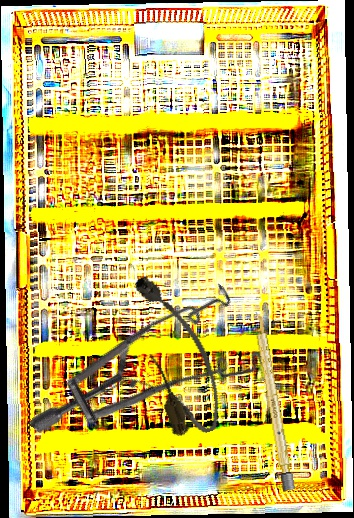Cannula: (123, 265, 231, 443)
Scalpel Handle: (251, 310, 296, 492)
Speculum: (28, 242, 287, 517)
